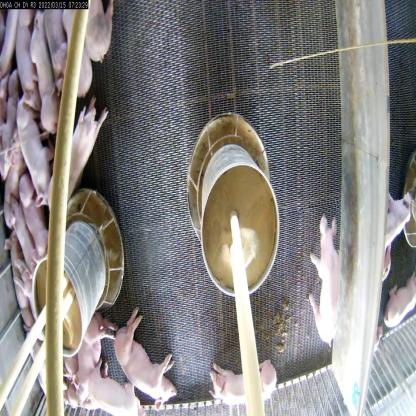Pig: (120, 301, 173, 416), (48, 99, 103, 209), (302, 215, 342, 347), (207, 352, 282, 412), (44, 1, 90, 97), (15, 90, 49, 192), (7, 6, 38, 110), (79, 368, 141, 415), (30, 10, 54, 124), (20, 176, 45, 257)
